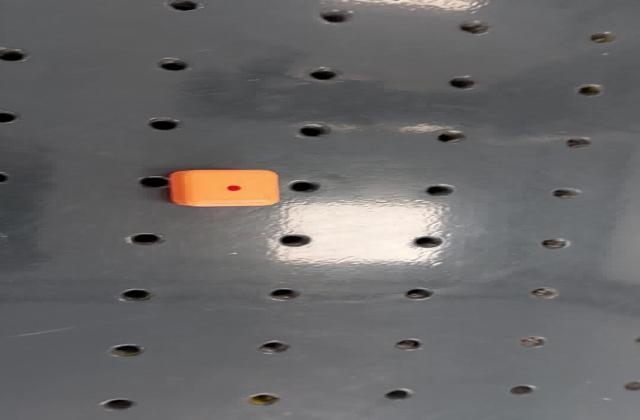cube: (162, 167, 288, 210)
